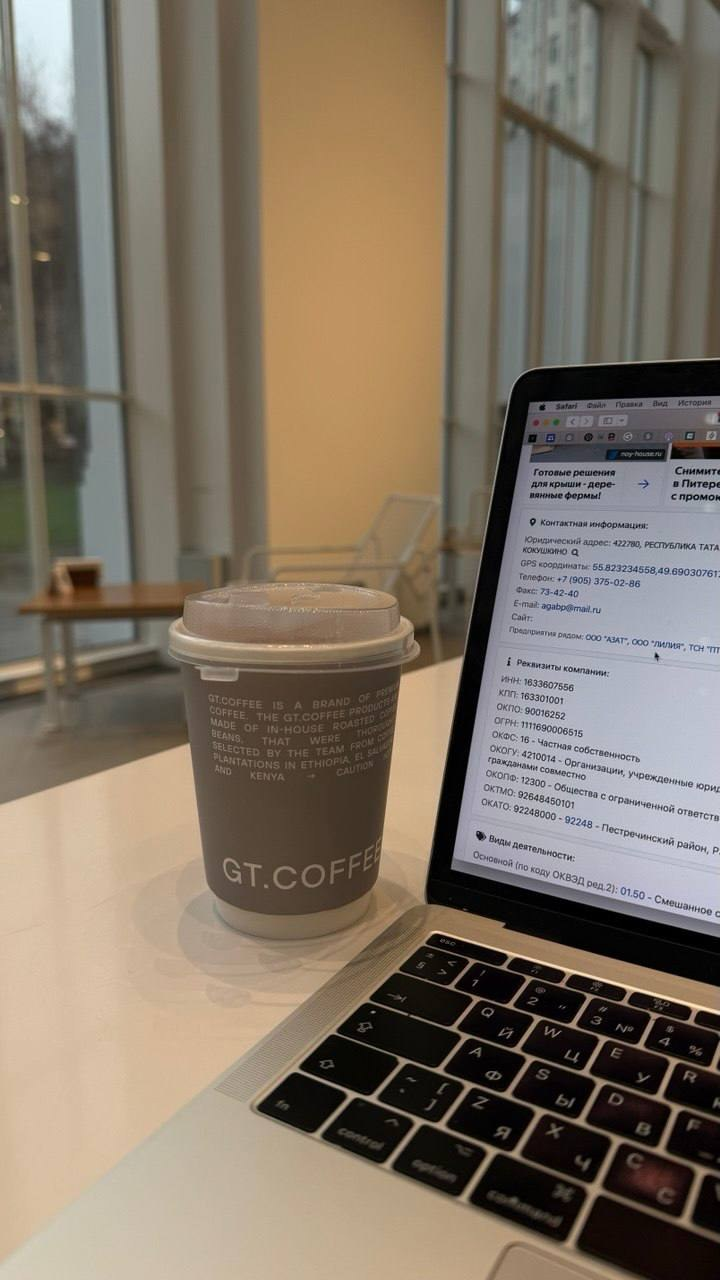laptop: (3, 357, 719, 1277)
